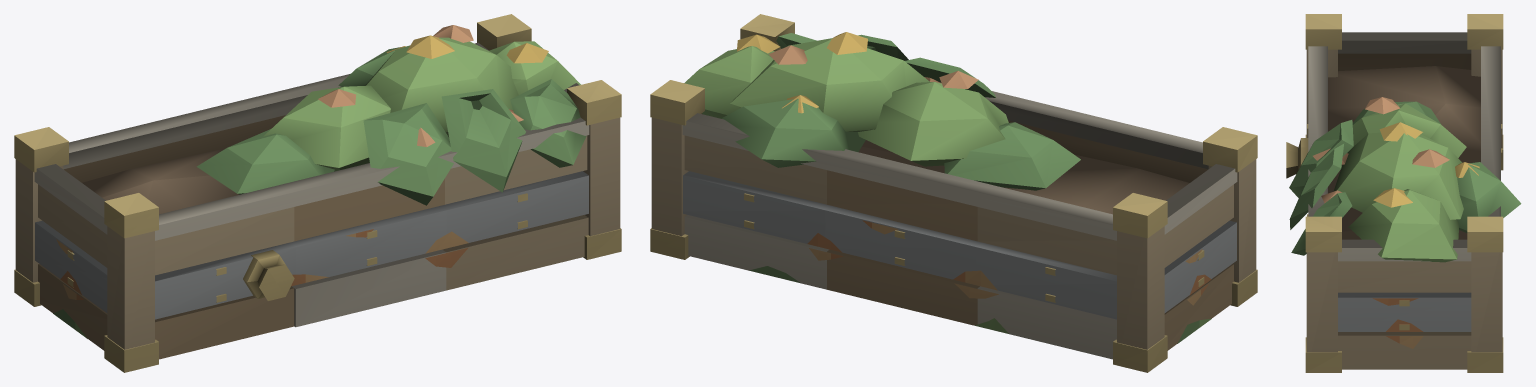
Rendered from planter.glb.
3 views of the same model, side by side, from view 1: azimuth 30°, elevation 25°; view 2: azimuth 150°, elevation 25°; view 3: azimuth 270°, elevation 25° (orthographic). The views are drawn at different scales.
Parts seen in each view (by area): view 1: planter; view 2: planter; view 3: planter.
Part boxes in pixels (x1,y1,x2,y2): planter: (14,14,621,372); planter: (650,14,1257,372); planter: (1286,14,1521,372).
Size of the model in its own units: 1.22 by 0.4877 by 0.5471.
